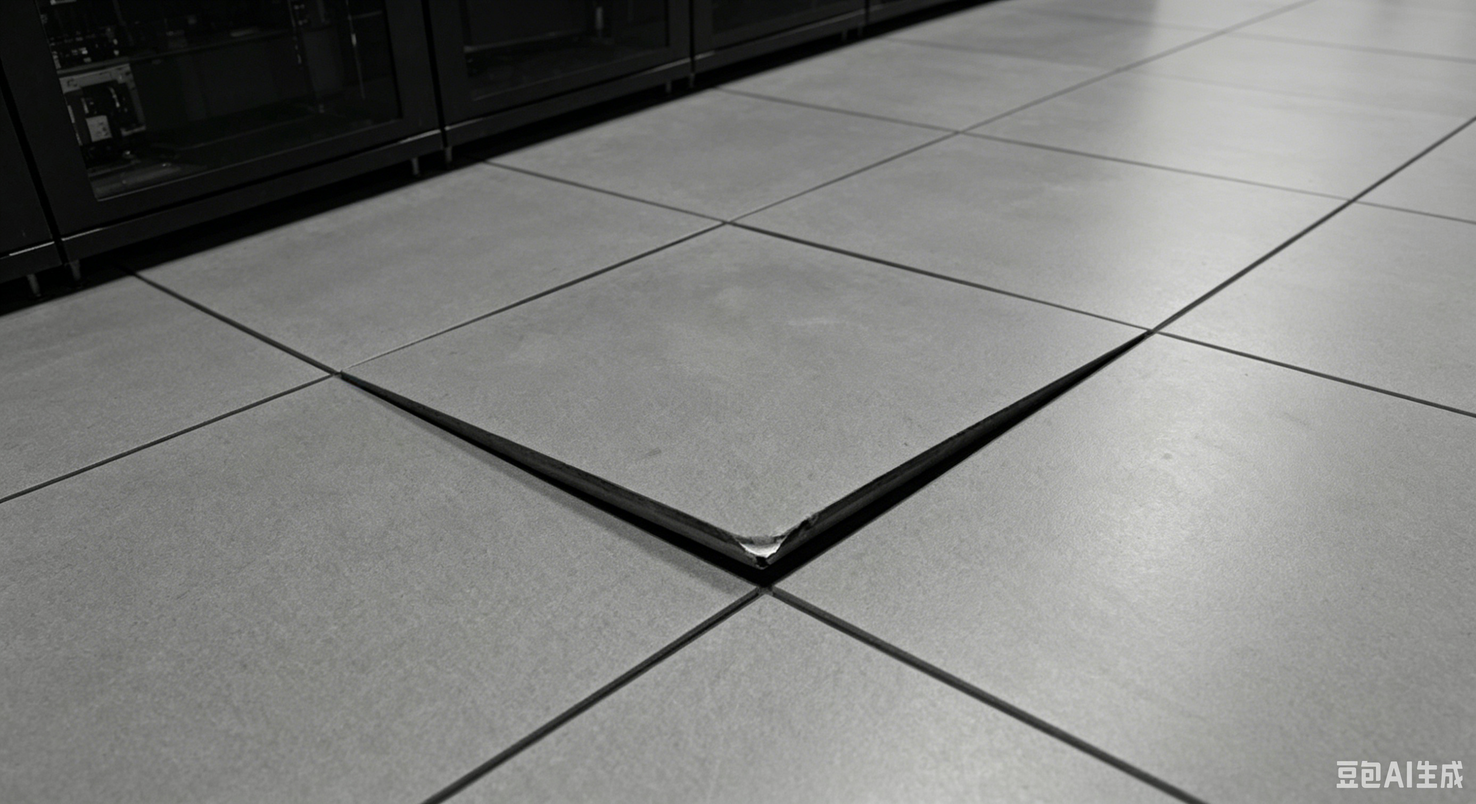floor_defect: (353, 376, 776, 597), (767, 470, 991, 594), (876, 387, 1089, 470), (1048, 328, 1179, 389)
